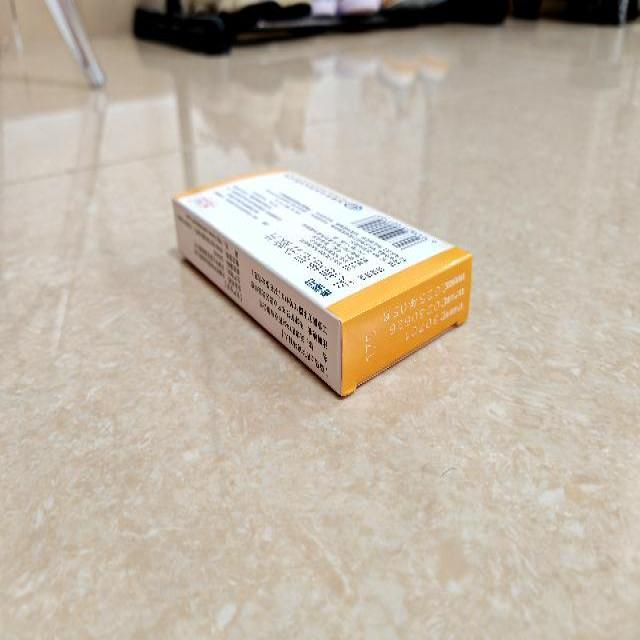box: (173, 165, 472, 398)
